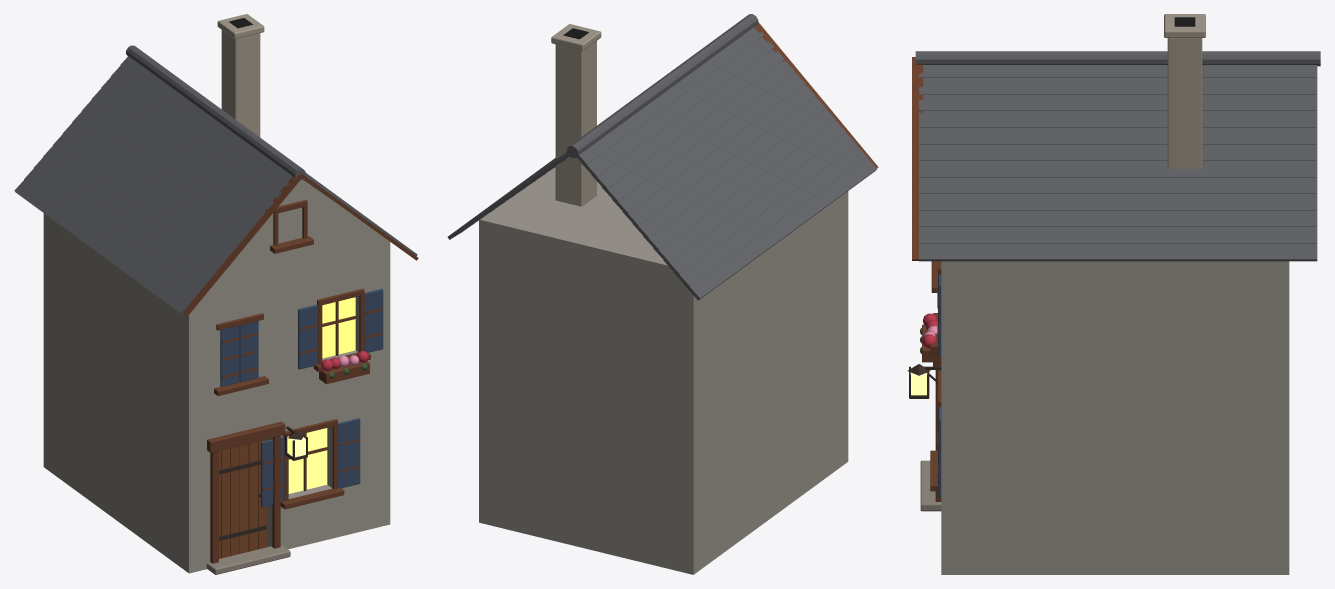
The model's file is casa_4x5.glb.
3 views of the same model, side by side, from view 1: azimuth 30°, elevation 25°; view 2: azimuth 150°, elevation 25°; view 3: azimuth 270°, elevation 25° (orthographic). The views are drawn at different scales.
Visible parts, largest first — view 1: casa_4x5_pb_dentro, casa_4x5_pa_dentro, casa_4x5_pb.005, casa_4x5_pa.003, casa_4x5_hastial, casa_4x5_pb, casa_4x5_pa, casa_4x5_chimenea0, casa_4x5_tejado_-1_0, casa_4x5_tejado_-1_1, casa_4x5_tejado_-1_2, casa_4x5_tejado_-1_3 (+39 smaller); view 2: casa_4x5_pb_dentro, casa_4x5_pa_dentro, casa_4x5_chimenea0, casa_4x5_tejado_-1_0, casa_4x5_tejado_-1_2, casa_4x5_tejado_-1_5, casa_4x5_tejado_-1_1, casa_4x5_tejado_-1_4, casa_4x5_tejado_-1_3, casa_4x5_tejado_-1_6, casa_4x5_tejado_-1_7, casa_4x5_tejado_-1_8 (+8 smaller); view 3: casa_4x5_pb_dentro, casa_4x5_pa_dentro, casa_4x5_tejado_1_0, casa_4x5_tejado_1_1, casa_4x5_tejado_1_3, casa_4x5_tejado_1_5, casa_4x5_tejado_1_2, casa_4x5_tejado_1_4, casa_4x5_tejado_1_7, casa_4x5_tejado_1_6, casa_4x5_tejado_1_8, casa_4x5_tejado_1_9 (+9 smaller).
Boxes of the visible parts, bbox=[...] form: casa_4x5_pb_dentro: bbox=[43, 314, 180, 566]; casa_4x5_pa_dentro: bbox=[43, 213, 181, 415]; casa_4x5_pb.005: bbox=[327, 372, 390, 538]; casa_4x5_pa.003: bbox=[258, 257, 320, 403]; casa_4x5_hastial: bbox=[216, 179, 387, 282]; casa_4x5_pb: bbox=[180, 414, 216, 573]; casa_4x5_pa: bbox=[182, 281, 220, 420]; casa_4x5_chimenea0: bbox=[221, 30, 260, 137]; casa_4x5_tejado_-1_0: bbox=[14, 180, 194, 314]; casa_4x5_tejado_-1_1: bbox=[24, 168, 203, 301]; casa_4x5_tejado_-1_2: bbox=[34, 157, 213, 289]; casa_4x5_tejado_-1_3: bbox=[43, 145, 222, 278]; casa_4x5_pb_dentro: bbox=[479, 306, 838, 574]; casa_4x5_pa_dentro: bbox=[479, 167, 840, 411]; casa_4x5_chimenea0: bbox=[555, 41, 596, 206]; casa_4x5_tejado_-1_0: bbox=[684, 157, 876, 300]; casa_4x5_tejado_-1_2: bbox=[663, 133, 856, 275]; casa_4x5_tejado_-1_5: bbox=[632, 96, 825, 238]; casa_4x5_tejado_-1_1: bbox=[673, 145, 866, 287]; casa_4x5_tejado_-1_4: bbox=[643, 108, 835, 251]; casa_4x5_tejado_-1_3: bbox=[653, 121, 846, 263]; casa_4x5_tejado_-1_6: bbox=[622, 84, 815, 226]; casa_4x5_tejado_-1_7: bbox=[612, 72, 805, 213]; casa_4x5_tejado_-1_8: bbox=[602, 61, 794, 202]; casa_4x5_pb_dentro: bbox=[962, 392, 1289, 574]; casa_4x5_pa_dentro: bbox=[958, 261, 1289, 391]; casa_4x5_tejado_1_0: bbox=[919, 243, 1317, 261]; casa_4x5_tejado_1_1: bbox=[919, 226, 1317, 243]; casa_4x5_tejado_1_3: bbox=[919, 193, 1317, 210]; casa_4x5_tejado_1_5: bbox=[919, 160, 1317, 177]; casa_4x5_tejado_1_2: bbox=[919, 210, 1317, 226]; casa_4x5_tejado_1_4: bbox=[919, 177, 1317, 193]; casa_4x5_tejado_1_7: bbox=[919, 127, 1317, 144]; casa_4x5_tejado_1_6: bbox=[919, 144, 1317, 160]; casa_4x5_tejado_1_8: bbox=[919, 111, 1317, 127]; casa_4x5_tejado_1_9: bbox=[919, 94, 1317, 110].
Size of the model in its own units: 4.72 by 8.33 by 5.94.
